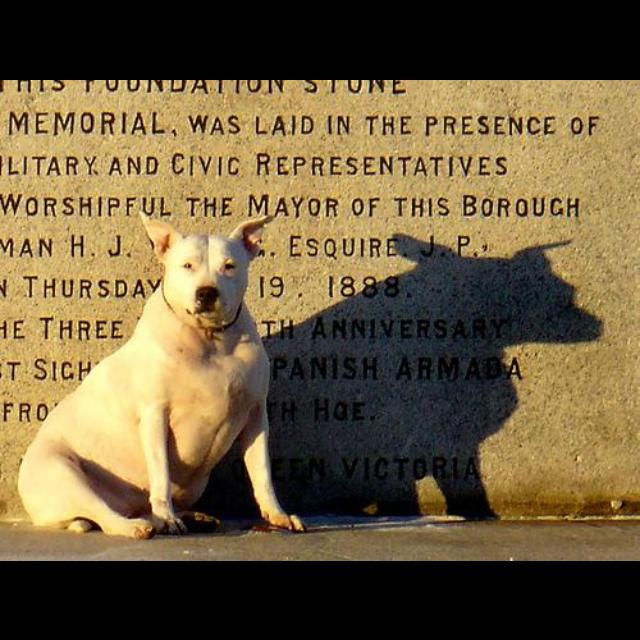staffford: (18, 209, 308, 540)
